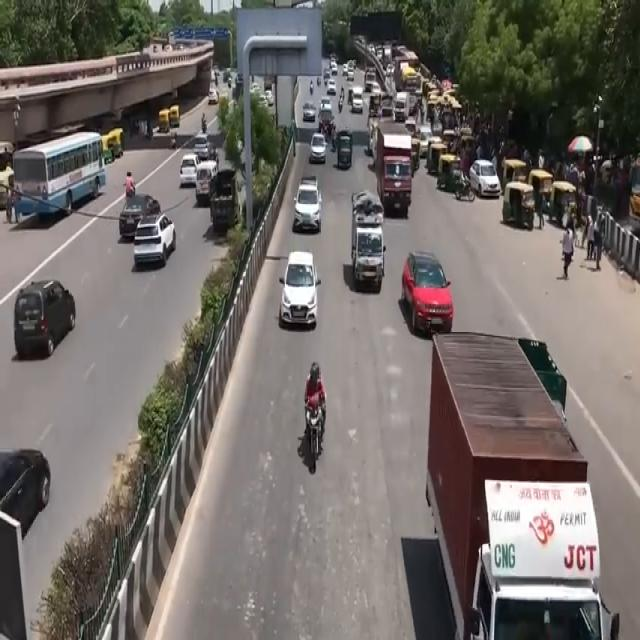BUS: (14, 130, 108, 226)
MOTORCYCLE: (304, 399, 324, 475)
TRUCK: (426, 337, 608, 640), (349, 193, 384, 295), (372, 126, 411, 216)
